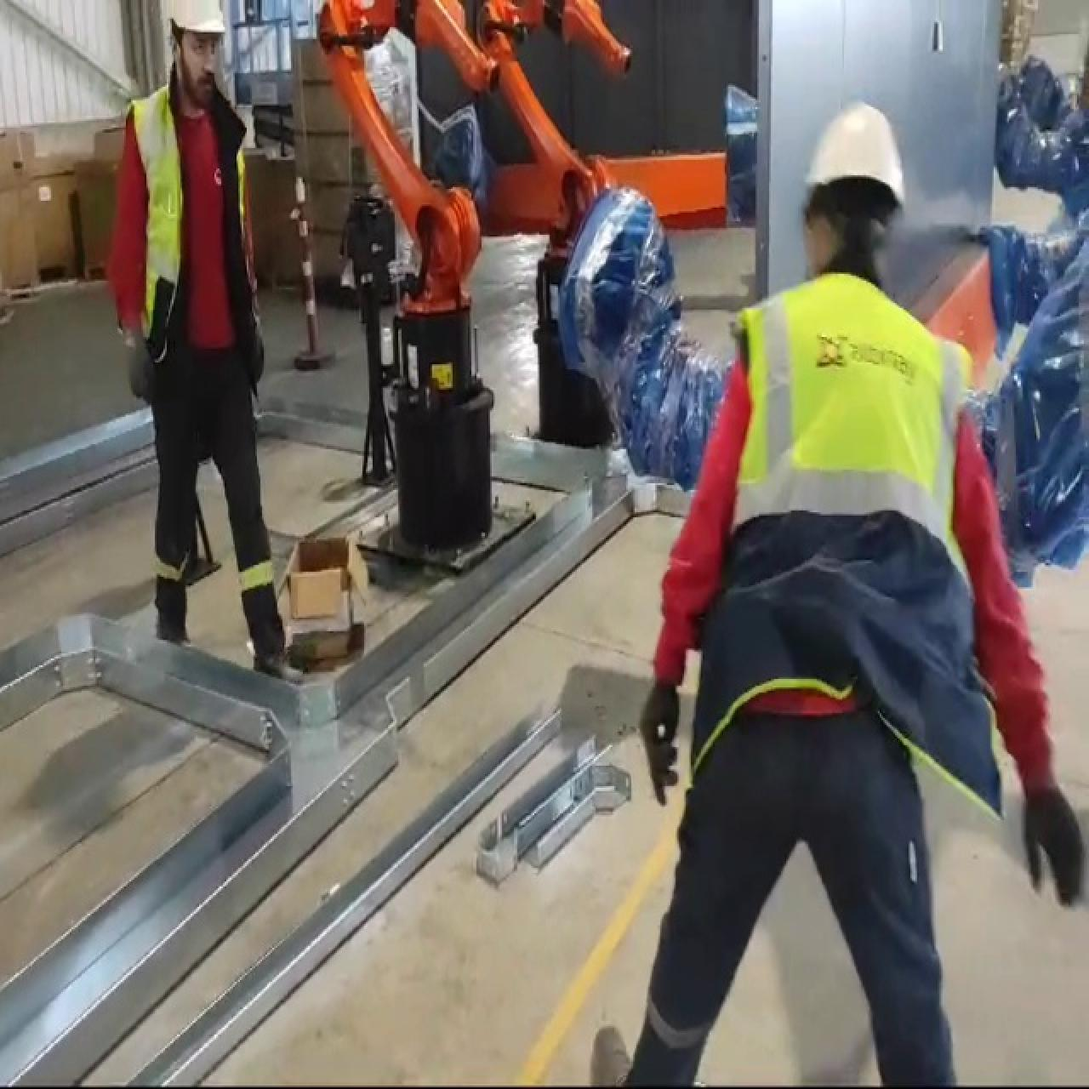Person: (634, 88, 1089, 1089), (87, 0, 316, 702)
Safety_Vest: (694, 277, 1040, 845), (119, 70, 268, 387)
